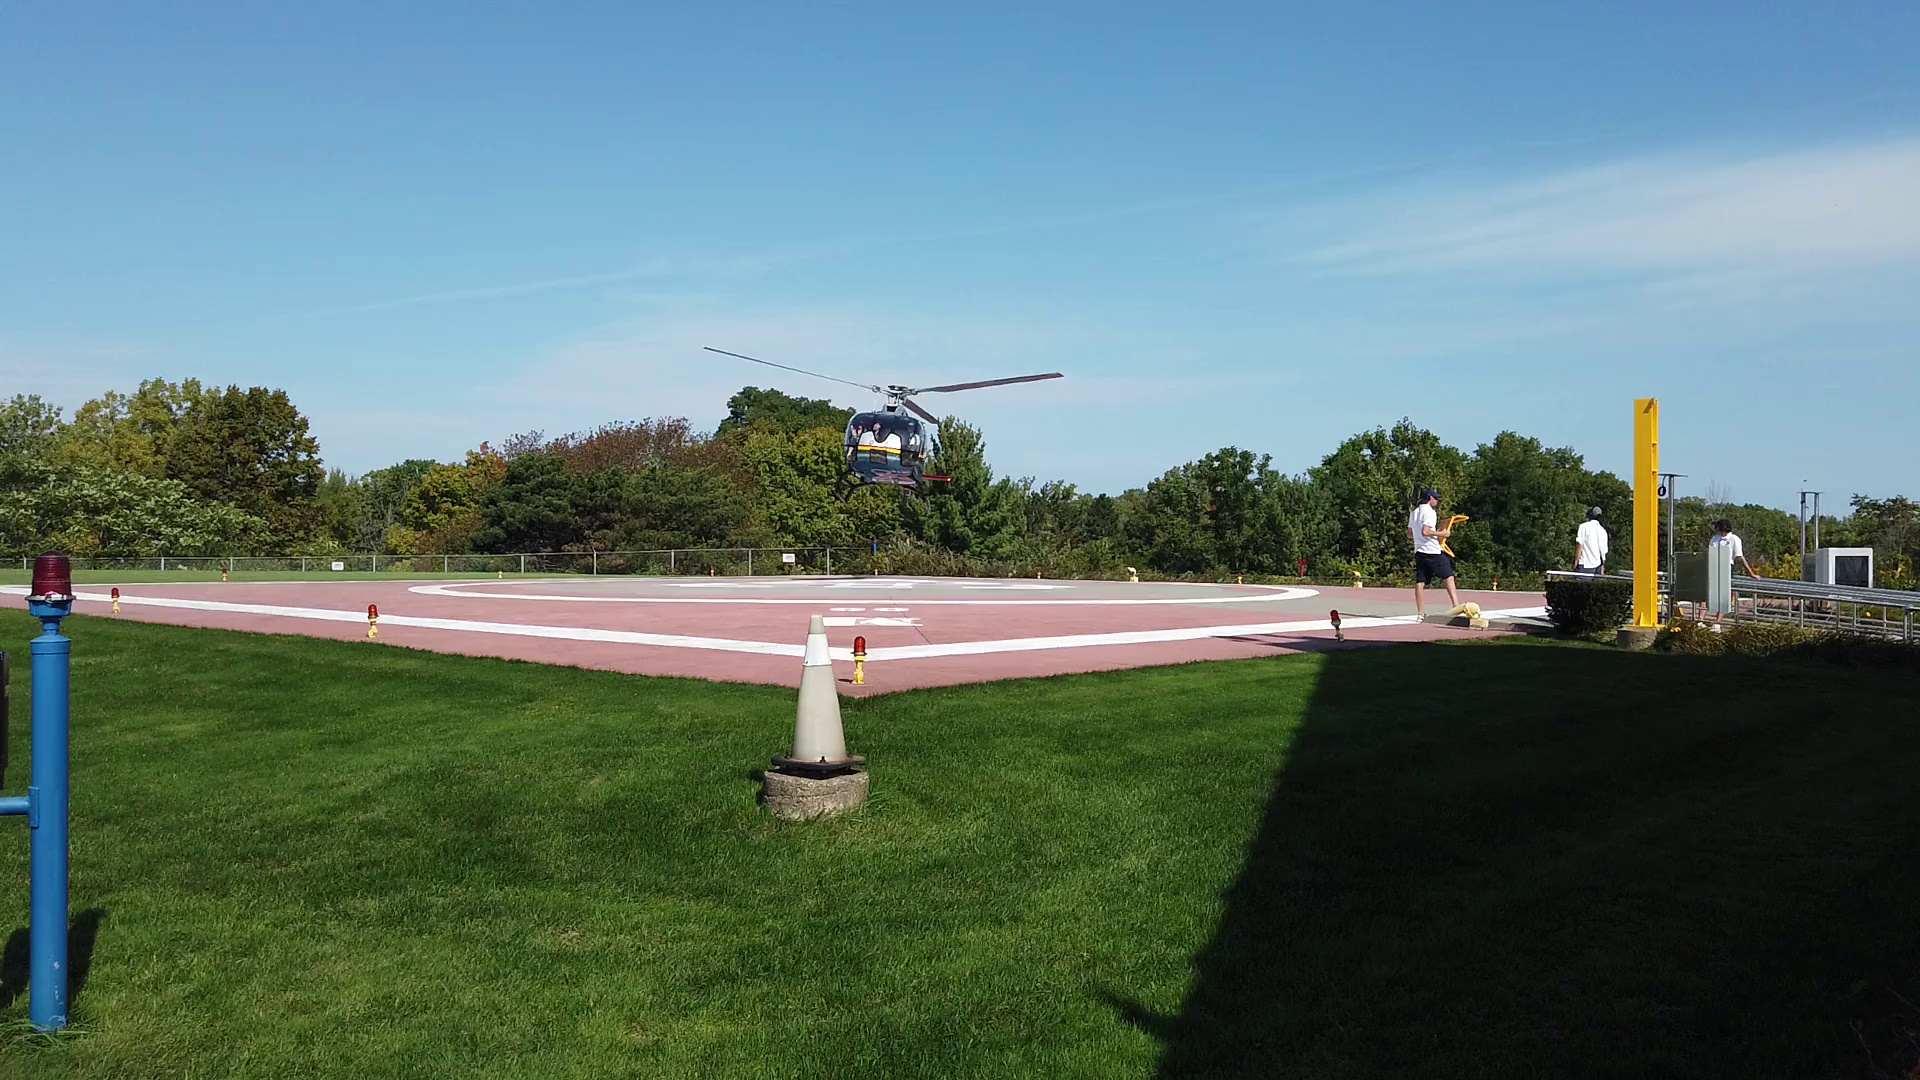heli: (704, 340, 1059, 497)
